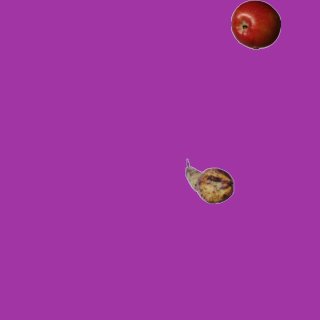Apple Braeburn: (230, 0, 280, 49)
Pear Abate: (184, 156, 234, 206)
